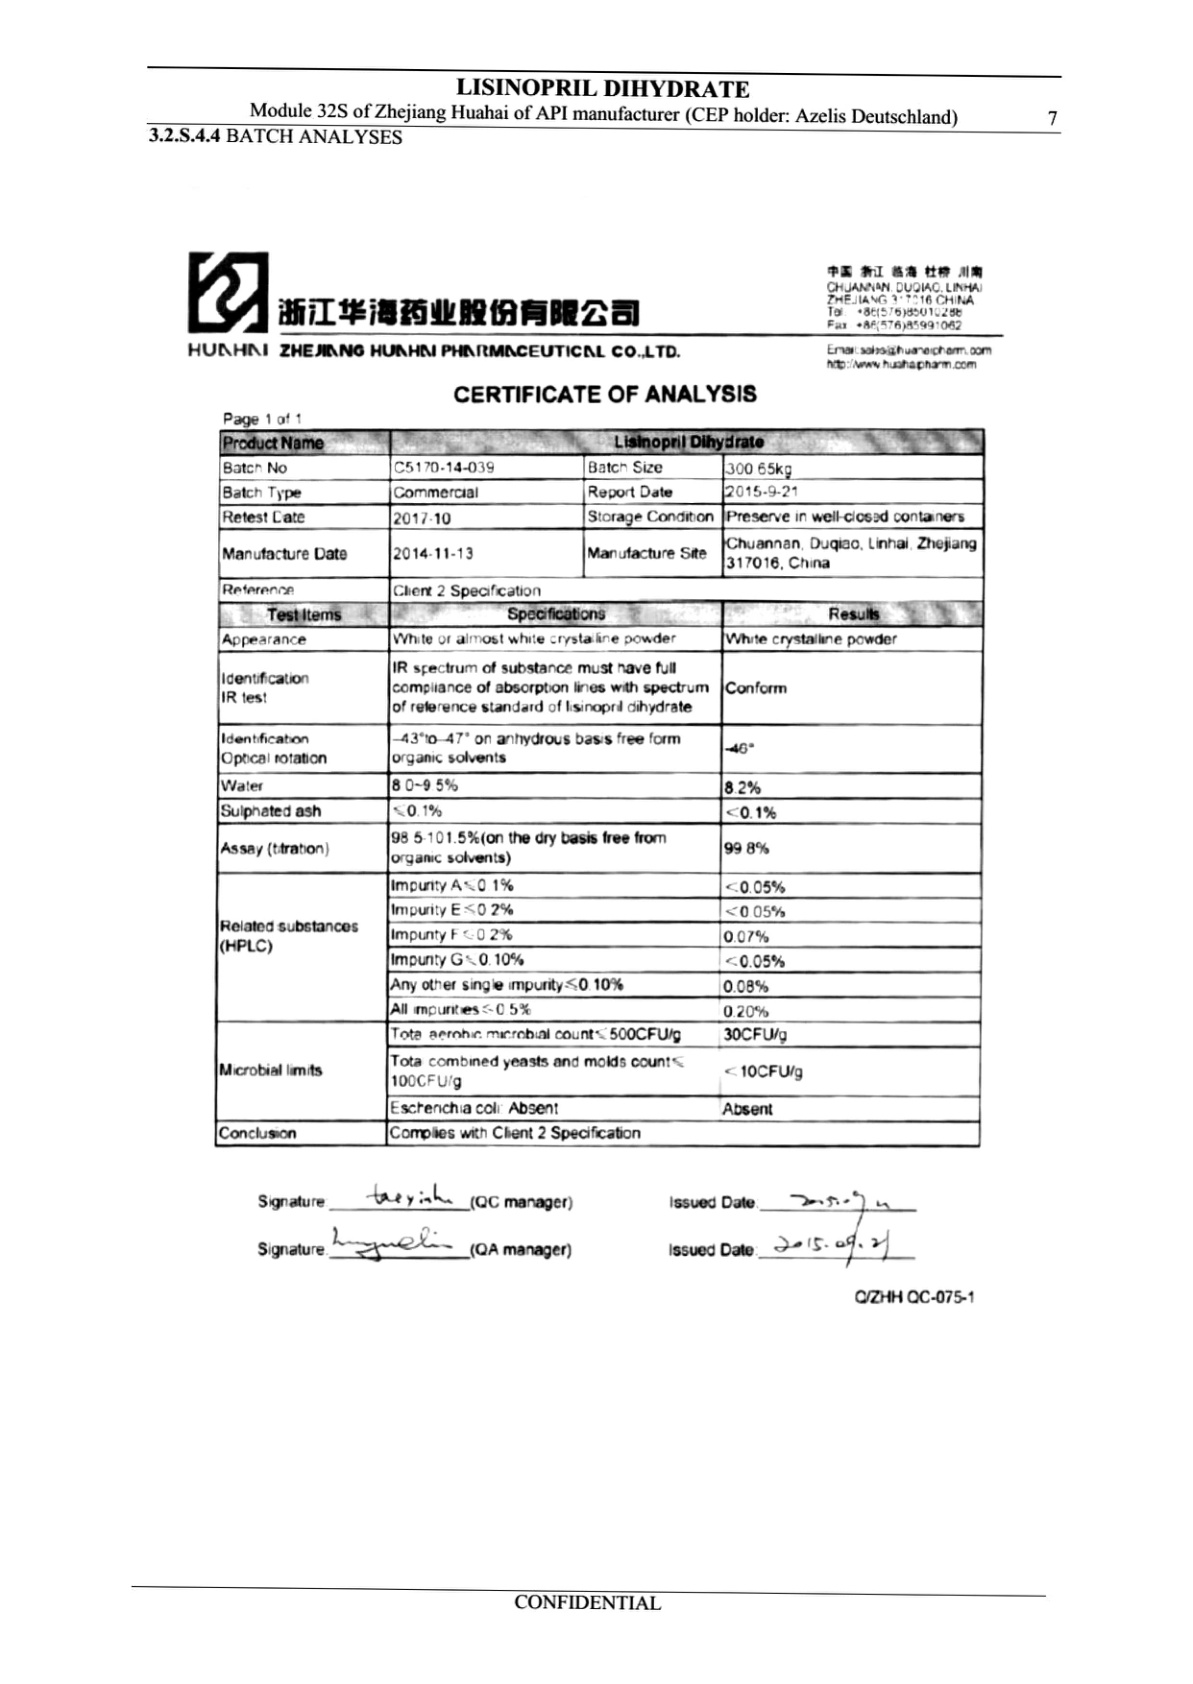merged_cells: (217, 427, 986, 1149)
